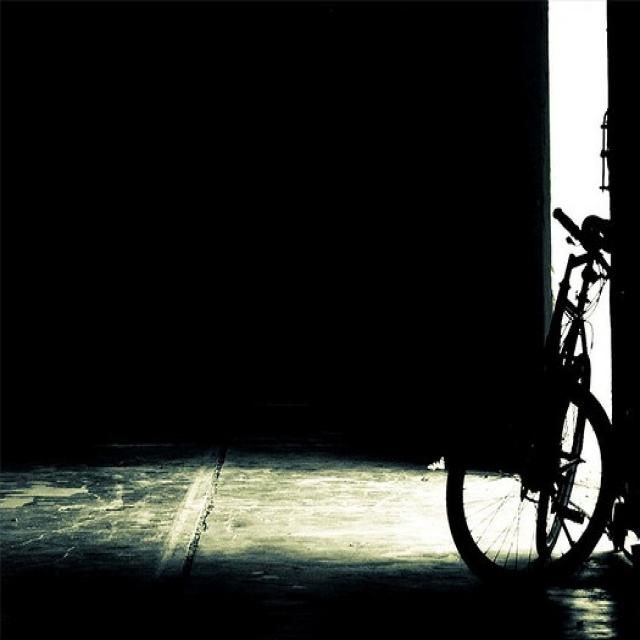Bicycle: (428, 174, 640, 610)
